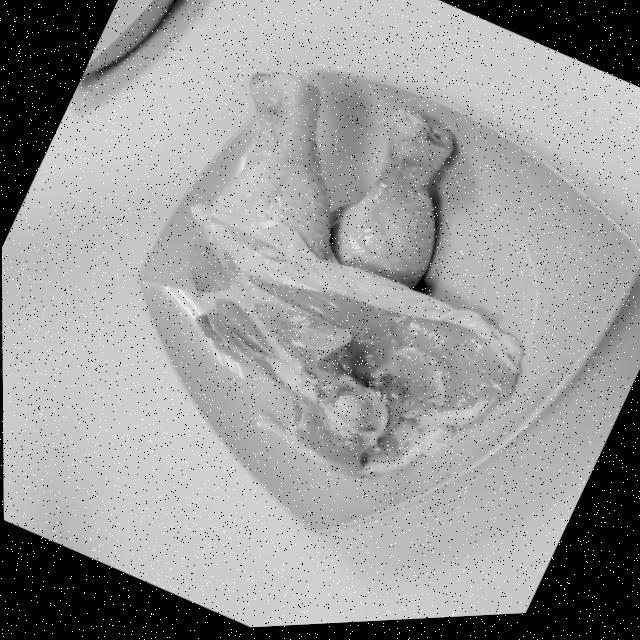quater: (192, 72, 484, 460), (329, 88, 452, 300)
